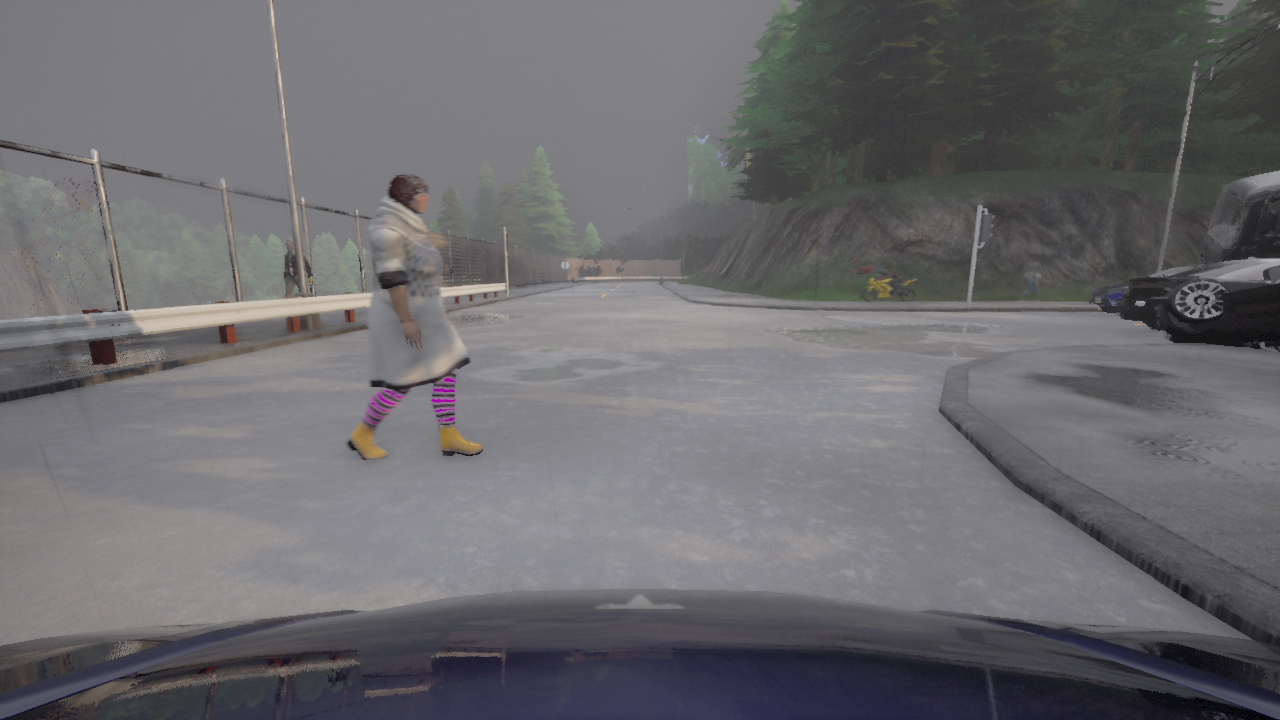cyclist: (0, 588, 1279, 719), (1120, 252, 1279, 330), (1154, 278, 1279, 352), (1199, 171, 1279, 266), (1087, 264, 1198, 313), (861, 273, 917, 301)
pedestrian: (346, 173, 483, 460), (283, 239, 314, 296), (1020, 255, 1047, 301), (845, 257, 893, 277)
